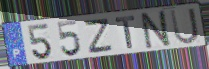5: (26, 22, 54, 61), (56, 19, 83, 59)
N: (140, 9, 174, 51)
T: (114, 15, 137, 50)
U: (168, 6, 201, 46)
Z: (84, 17, 115, 55)
